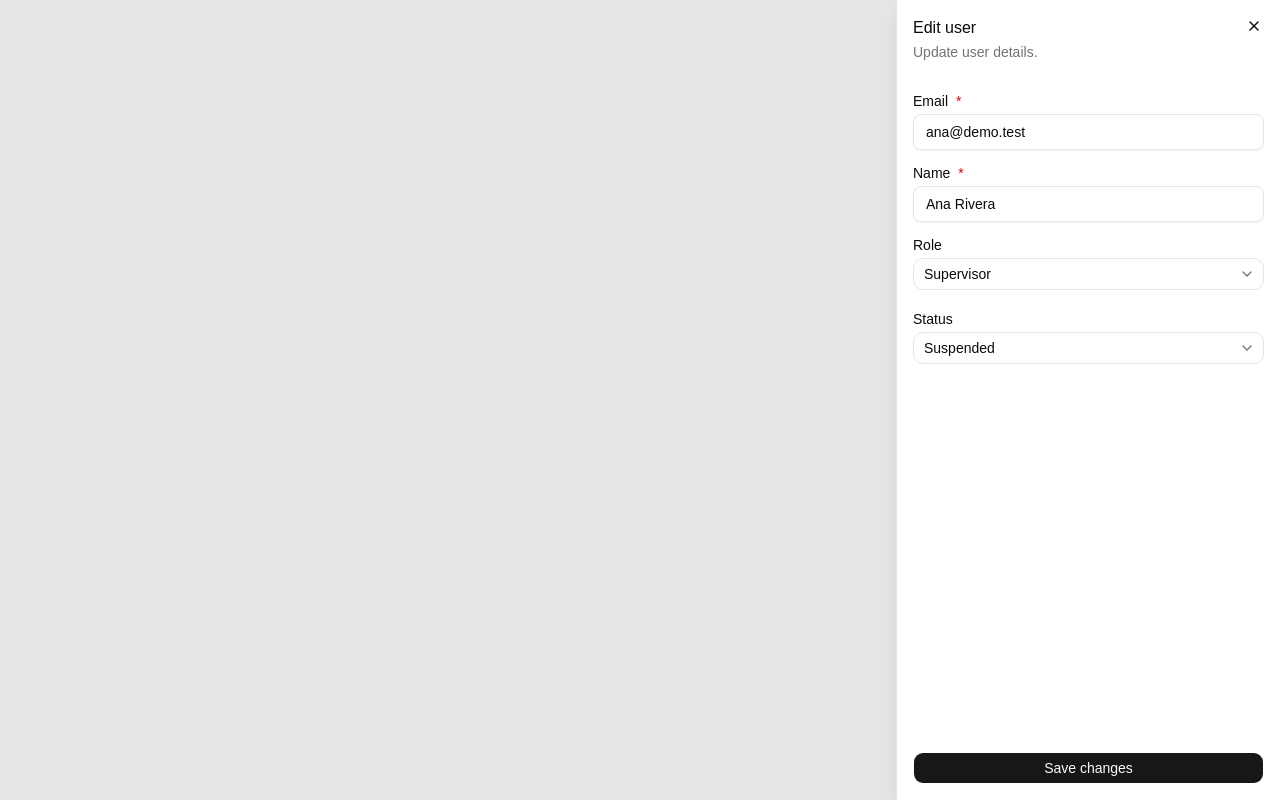
it: UserForm leaving-Active hint › UserForm_ShouldNotShowTheHint_WhenActiveIsSelectedForAUserReportedAs_suspended
Click the dropdown with test id "user-form-status" at point(959, 348), box [913,332,1264,364]
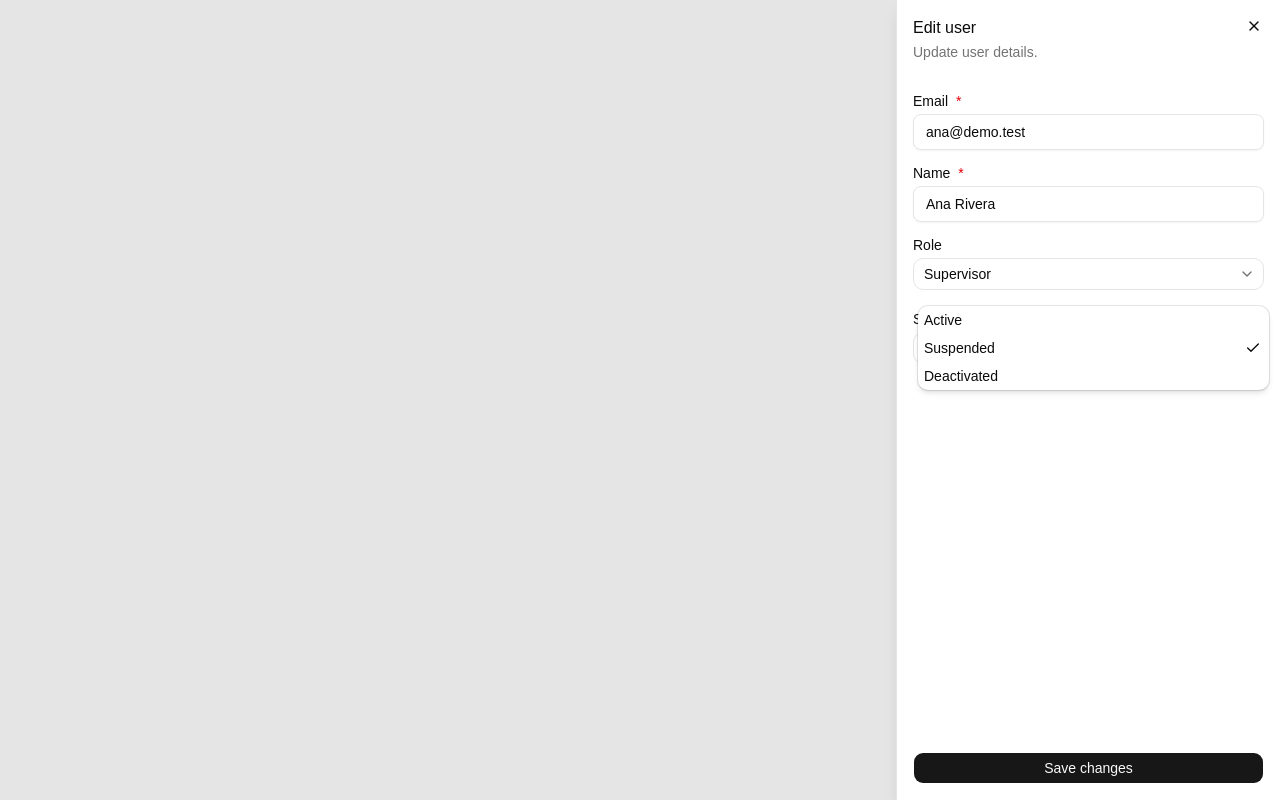
Click the option with test id "user-form-status-option-Active" at point(943, 320), box [924,312,962,328]
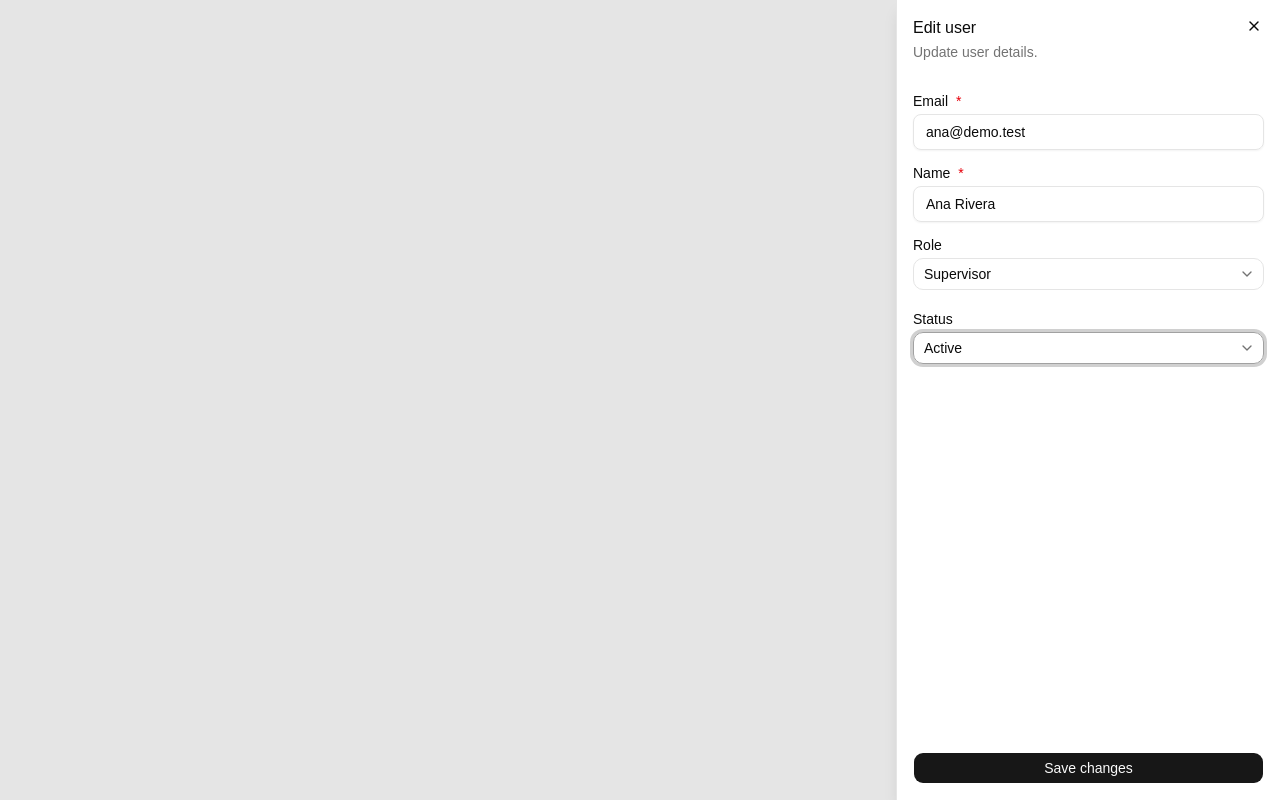
Now no options are shown
